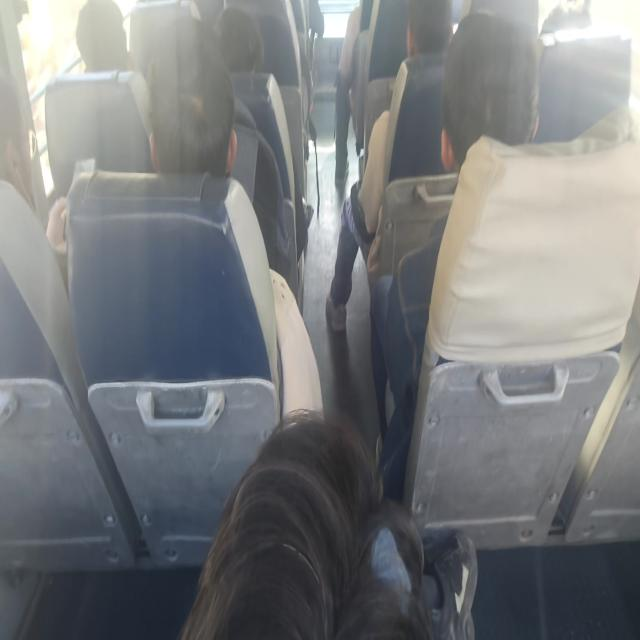person: (369, 9, 541, 502), (179, 407, 477, 639), (146, 18, 298, 305), (324, 0, 453, 332), (146, 19, 238, 176), (74, 0, 152, 139), (333, 1, 362, 188), (75, 0, 131, 73), (215, 6, 264, 73)
